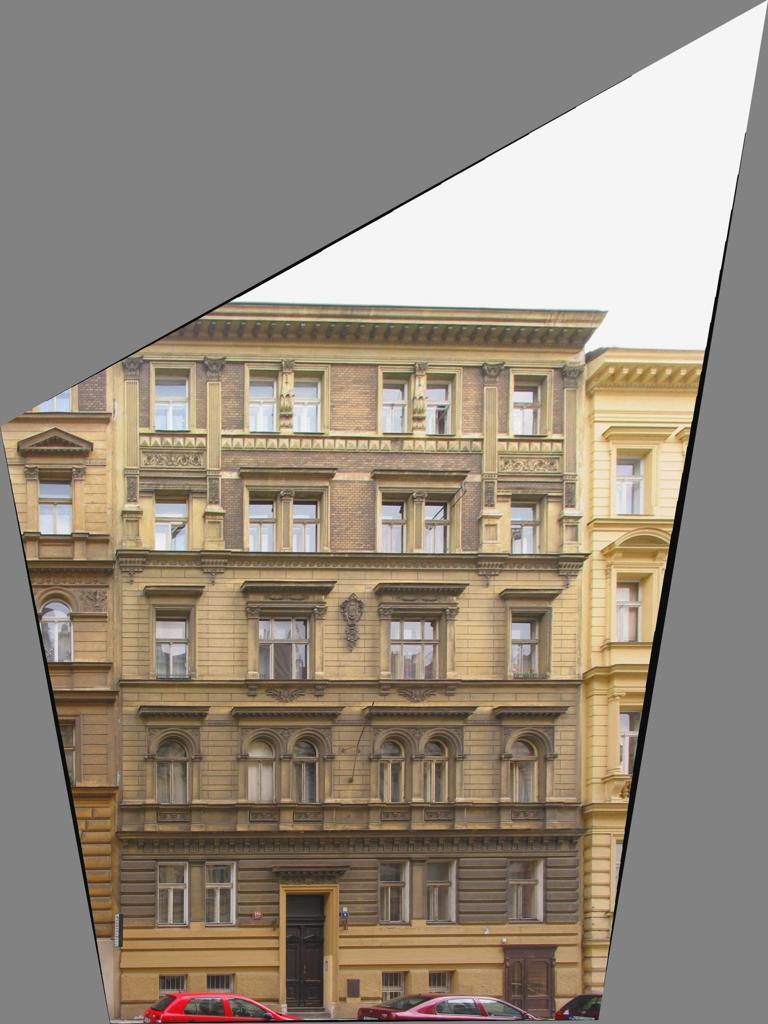window: (259, 613, 313, 680), (391, 613, 443, 680), (618, 573, 654, 644), (38, 594, 75, 662), (620, 706, 656, 775), (156, 610, 191, 679), (156, 736, 190, 805), (617, 449, 652, 515), (37, 472, 73, 536), (513, 613, 547, 680), (510, 736, 544, 803), (155, 368, 191, 430), (155, 489, 190, 551), (510, 861, 544, 922), (293, 736, 323, 804), (380, 736, 410, 803), (424, 736, 454, 803), (512, 494, 545, 554), (249, 736, 278, 804), (515, 375, 547, 435), (294, 371, 325, 432), (293, 492, 324, 553), (158, 863, 188, 926), (206, 863, 236, 925), (249, 491, 279, 552), (427, 860, 456, 923), (425, 493, 455, 553), (250, 370, 279, 432), (427, 373, 456, 435), (383, 372, 412, 433), (381, 861, 409, 923), (382, 493, 410, 553), (159, 975, 189, 1019), (207, 974, 236, 1019), (430, 972, 458, 1017), (383, 972, 410, 1017)
